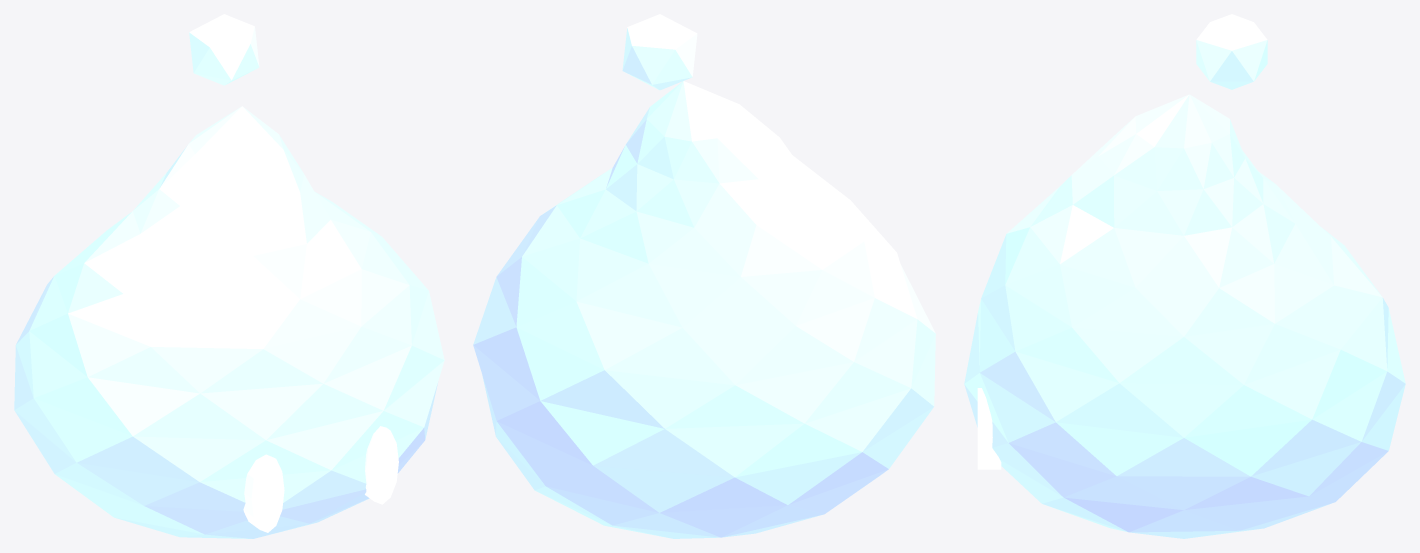
Rendered from water-spirit.glb.
3 views of the same model, side by side, from view 1: azimuth 30°, elevation 25°; view 2: azimuth 150°, elevation 25°; view 3: azimuth 270°, elevation 25° (orthographic). The views are drawn at different scales.
Parts seen in each view (by area): view 1: WaterSpirit, Nub; view 2: WaterSpirit, Nub; view 3: WaterSpirit, Nub.
Boxes of the visible parts, left/top/right/bottom form: WaterSpirit: left=14, top=106, right=444, bottom=538; Nub: left=189, top=14, right=259, bottom=85; WaterSpirit: left=473, top=81, right=935, bottom=538; Nub: left=622, top=14, right=697, bottom=90; WaterSpirit: left=964, top=94, right=1405, bottom=538; Nub: left=1196, top=14, right=1267, bottom=89.
Bounding box in the file's own units: 0.4978 × 0.5839 × 0.4682.
